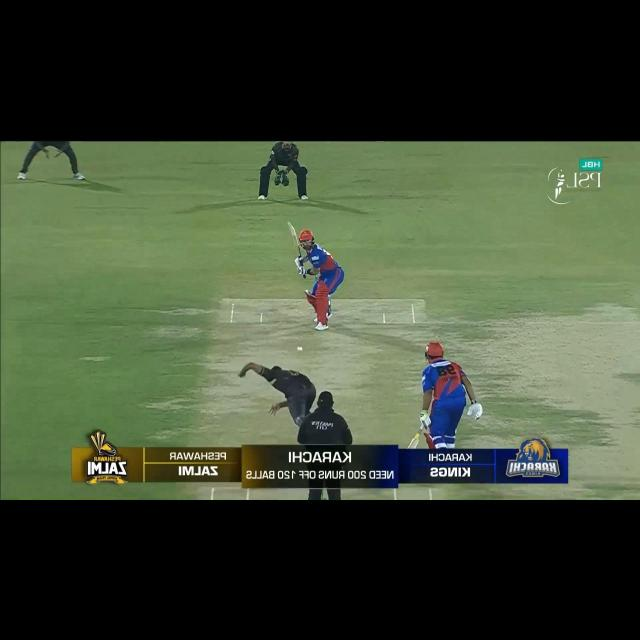bat: (287, 222, 303, 259), (408, 435, 419, 450)
toe: (287, 221, 296, 235)
